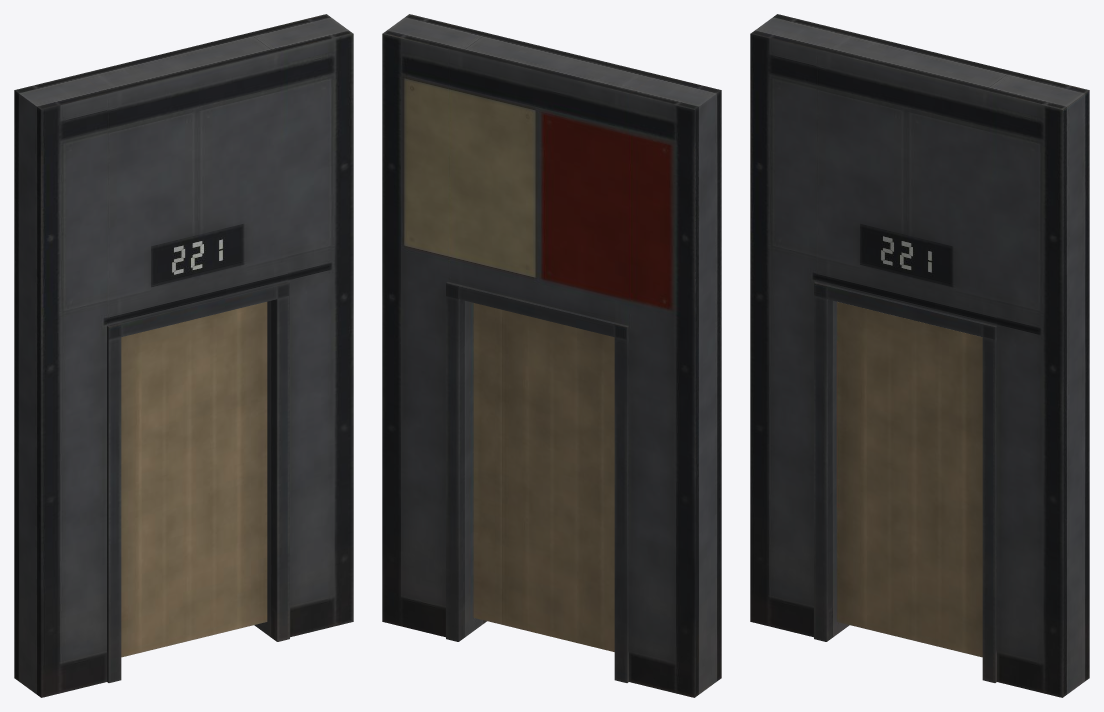
Rendered from cabin_door.glb.
3 renders of one model, left to right at view 1: azimuth 30°, elevation 25°; view 2: azimuth 150°, elevation 25°; view 3: azimuth 330°, elevation 25°, orthographic.
Parts seen in each view (by area): view 1: cabin_door; view 2: cabin_door; view 3: cabin_door.
Boxes of the visible parts, x1=… form: cabin_door: x1=14, y1=14, x2=353, y2=697; cabin_door: x1=382, y1=14, x2=721, y2=697; cabin_door: x1=750, y1=14, x2=1089, y2=697.
Bounding box in the file's own units: 2 × 3.6 × 0.34.
1 material, 1 textured.
